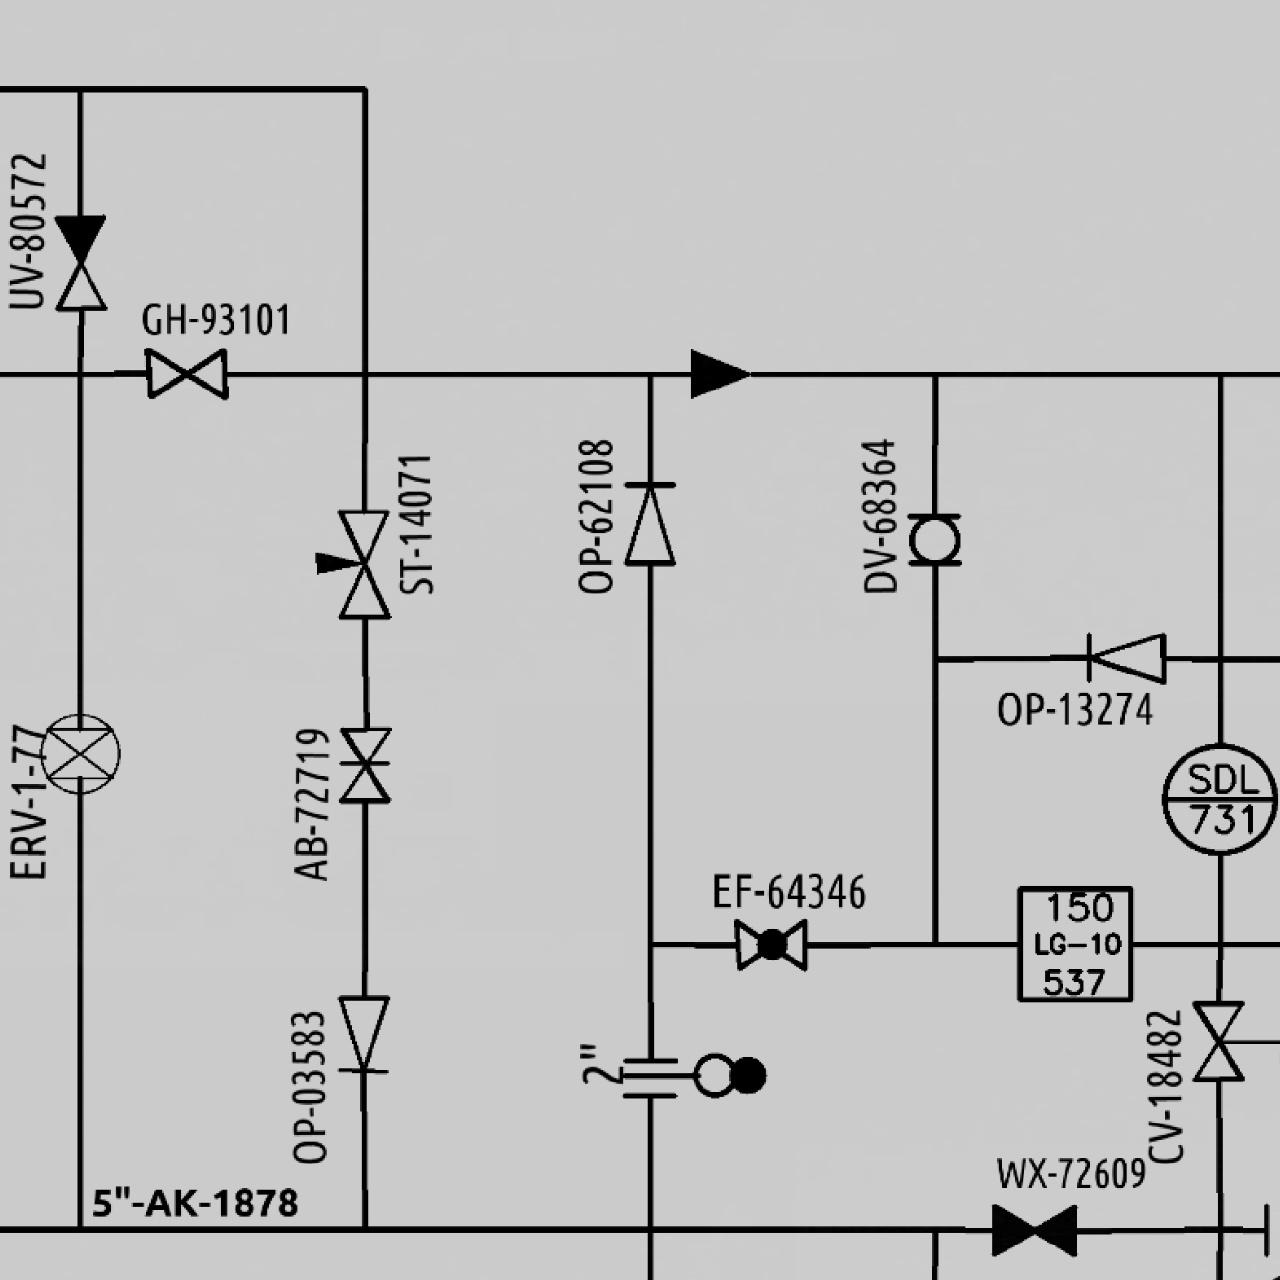Half closed valve: (48, 209, 110, 314)
